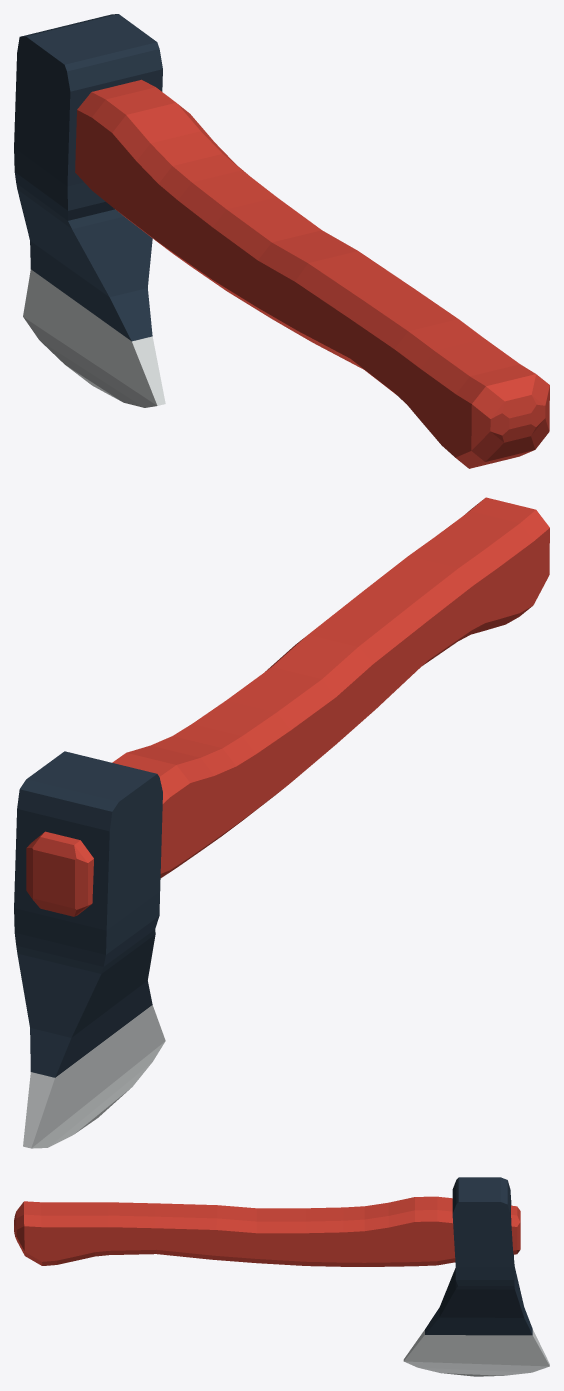
Rendered from FireAxe.fbx.
3 views of the same model, one above another, from view 1: azimuth 30°, elevation 25°; view 2: azimuth 150°, elevation 25°; view 3: azimuth 270°, elevation 25° (orthographic). The views are drawn at different scales.
Visible parts, largest first — view 1: Cube.001; view 2: Cube.001; view 3: Cube.001.
Part boxes in pixels (x1,y1,x2,y2): Cube.001: (14, 14, 549, 468); Cube.001: (14, 497, 549, 1148); Cube.001: (14, 1177, 549, 1376).
Bounding box in the file's own units: 108 × 382 × 996.
